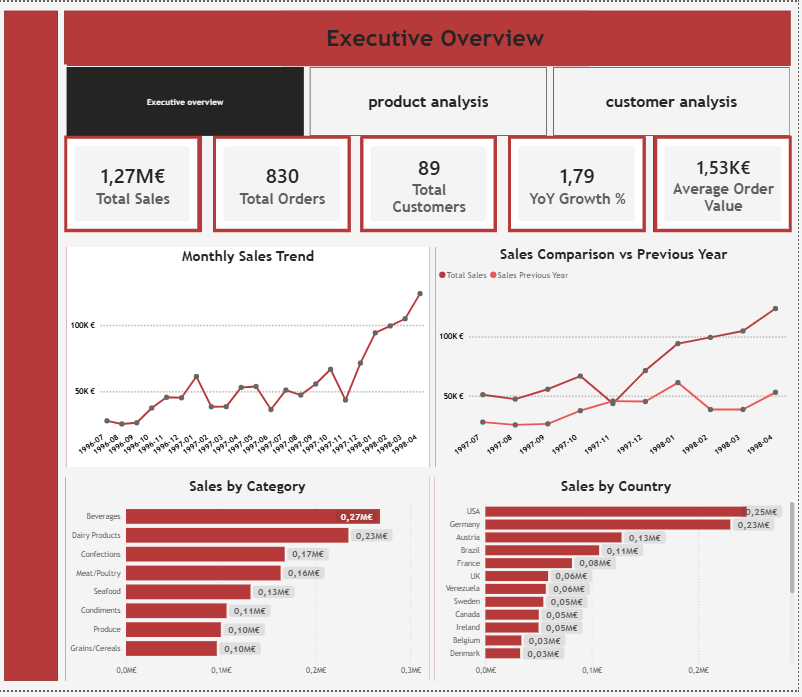

This screenshot's page, from the dashboard's own definition file:
{"tool":"powerbi","page":{"name":"Executive overview","canvas":[1280,1100],"ordinal":0},"visuals":[{"type":"shape","box":[106,14,1162,88],"z":0},{"type":"shape","box":[10,14,86,1072],"z":1000},{"type":"shape","box":[108,214,218,154],"z":2000},{"type":"shape","box":[344,216,220,152],"z":3000},{"type":"shape","box":[580,216,218,152],"z":4000},{"type":"shape","box":[816,216,220,152],"z":5000},{"type":"shape","box":[1048,214,220,154],"z":6000},{"type":"cardVisual","fields":{"Data":["Measures_Table.Total Sales"]},"box":[106,214,218,154],"z":7000},{"type":"cardVisual","fields":{"Data":["Measures_Table.Total Orders"]},"box":[344,214,220,154],"z":8000},{"type":"cardVisual","fields":{"Data":["Measures_Table.Total Customers"]},"box":[580,214,218,154],"z":9000},{"type":"cardVisual","fields":{"Data":["Measures_Table.YoY Growth %"]},"box":[816,214,220,154],"z":10000},{"type":"cardVisual","fields":{"Data":["Measures_Table.Average Order Value"]},"box":[1050,214,220,154],"z":11000},{"type":"textbox","box":[100,100,10,4],"z":12000},{"type":"textbox","box":[454.2,13.7,491.3,89.2],"z":13000},{"type":"shape","box":[110,392,580,352],"z":14000},{"type":"shape","box":[700,392,570,352],"z":15000},{"type":"lineChart","title":"Monthly Sales Trend","fields":{"Category":["vw_dim_date.YearMonth"],"Y":["Measures_Table.Total Sales"]},"box":[110,392,580,352],"z":16000},{"type":"lineChart","title":"Sales Comparison vs Previous Year","fields":{"Category":["vw_dim_date.YearMonth"],"Y":["Measures_Table.Total Sales","Measures_Table.Sales Previous Year"]},"box":[700,390,570,354],"z":17000},{"type":"shape","box":[108,760,582,326],"z":18000},{"type":"shape","box":[698,760,582,326],"z":19000},{"type":"barChart","title":"Sales by Category","fields":{"Y":["Measures_Table.Total Sales"],"Category":["vw_dim_product.CategoryName"]},"box":[108,760,582,326],"z":20000},{"type":"barChart","title":"Sales by Country","fields":{"Y":["Measures_Table.Total Sales"],"Category":["vw_dim_customer.Country"]},"box":[698,760,582,326],"z":21000},{"type":"pageNavigator","box":[110,104,1158,110],"z":22000}]}

Visuals, with their boxes in screenshot pixels (x1, y1, x2, y2), scaled from the page's 1280x1100 canvas onto the 802x697 screenshot:
shape: [left=66, top=9, right=794, bottom=65]
shape: [left=6, top=9, right=60, bottom=688]
shape: [left=68, top=136, right=204, bottom=233]
shape: [left=216, top=137, right=353, bottom=233]
shape: [left=363, top=137, right=500, bottom=233]
shape: [left=511, top=137, right=649, bottom=233]
shape: [left=657, top=136, right=794, bottom=233]
cardVisual - Measures_Table.Total Sales: [left=66, top=136, right=203, bottom=233]
cardVisual - Measures_Table.Total Orders: [left=216, top=136, right=353, bottom=233]
cardVisual - Measures_Table.Total Customers: [left=363, top=136, right=500, bottom=233]
cardVisual - Measures_Table.YoY Growth %: [left=511, top=136, right=649, bottom=233]
cardVisual - Measures_Table.Average Order Value: [left=658, top=136, right=796, bottom=233]
textbox: [left=63, top=63, right=69, bottom=66]
textbox: [left=285, top=9, right=592, bottom=65]
shape: [left=69, top=248, right=432, bottom=471]
shape: [left=439, top=248, right=796, bottom=471]
"Monthly Sales Trend" lineChart: [left=69, top=248, right=432, bottom=471]
"Sales Comparison vs Previous Year" lineChart: [left=439, top=247, right=796, bottom=471]
shape: [left=68, top=482, right=432, bottom=688]
shape: [left=437, top=482, right=801, bottom=688]
"Sales by Category" barChart: [left=68, top=482, right=432, bottom=688]
"Sales by Country" barChart: [left=437, top=482, right=801, bottom=688]
pageNavigator: [left=69, top=66, right=794, bottom=136]
